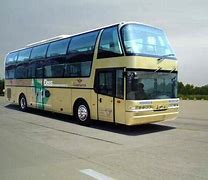bigcar: (0, 18, 186, 129)
